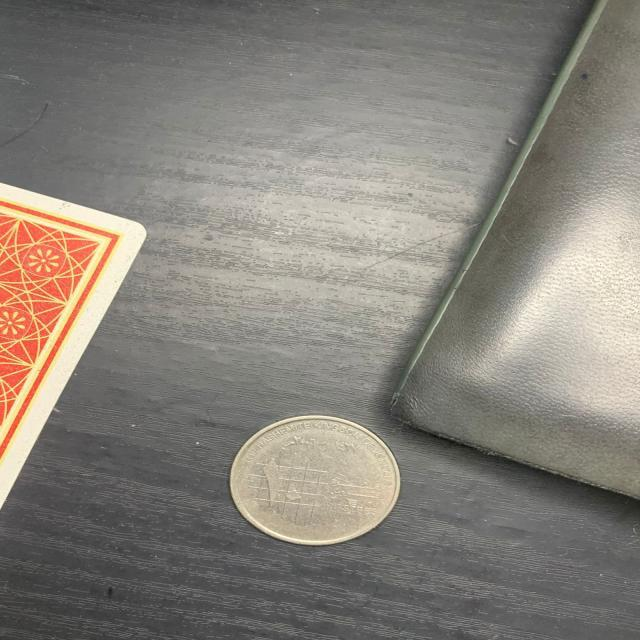10-coins: (228, 414, 400, 547)
